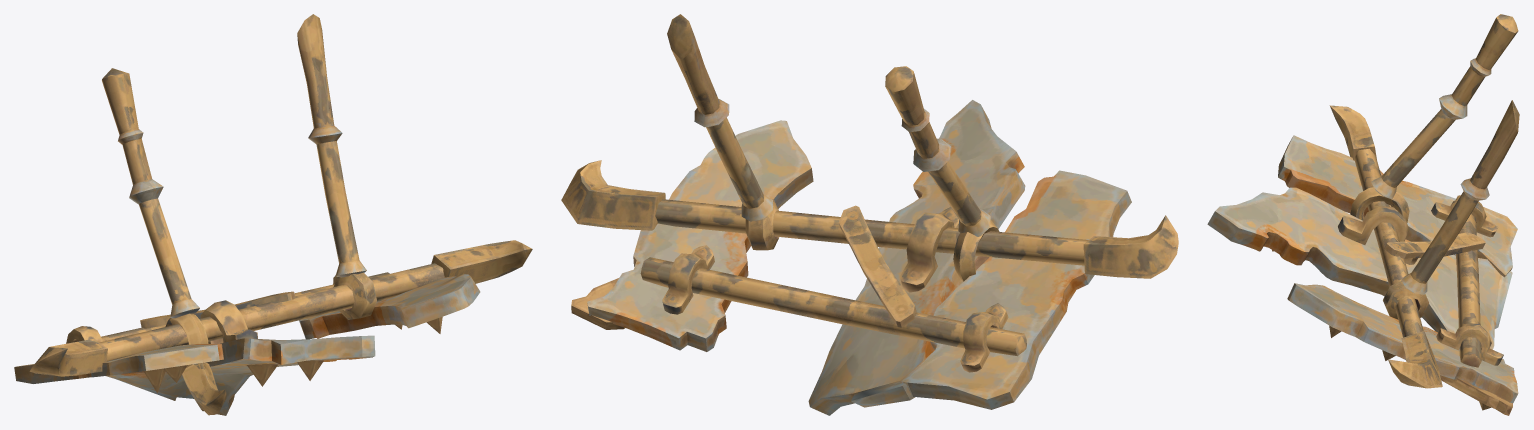
The model's file is HL_Barricade_D_DmgState_02_00.fbx.
The picture shows the model from 3 angles, left to right: view 1: azimuth 30°, elevation 25°; view 2: azimuth 150°, elevation 25°; view 3: azimuth 270°, elevation 25°; orthographic projection. The views are drawn at different scales.
Visible parts, largest first — view 1: HL_Barricade_D_DmgState_02_00; view 2: HL_Barricade_D_DmgState_02_00; view 3: HL_Barricade_D_DmgState_02_00.
Boxes of the visible parts, box(x1,y1,x2,y2) form: HL_Barricade_D_DmgState_02_00: box(14, 14, 532, 415); HL_Barricade_D_DmgState_02_00: box(561, 14, 1178, 415); HL_Barricade_D_DmgState_02_00: box(1207, 14, 1519, 415).
Size of the model in its own units: 562 by 363 by 321.
